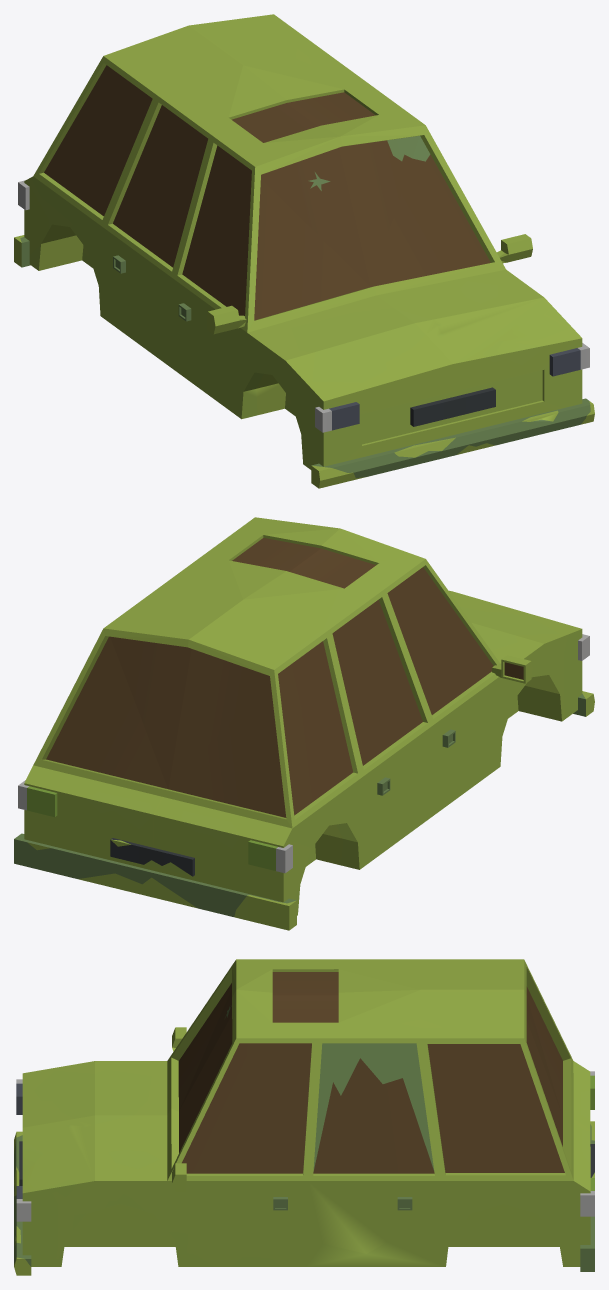
File: OldCar_05.fbx
3 views of the same model, one above another, from view 1: azimuth 30°, elevation 25°; view 2: azimuth 150°, elevation 25°; view 3: azimuth 270°, elevation 25° (orthographic). The views are drawn at different scales.
Parts seen in each view (by area): view 1: OldCar_05; view 2: OldCar_05; view 3: OldCar_05.
Boxes of the visible parts, <box> form: OldCar_05: <box>14,14,594,488</box>; OldCar_05: <box>14,517,594,930</box>; OldCar_05: <box>14,959,594,1275</box>.
Bounding box in the file's own units: 1.98 × 1.39 × 3.3.
